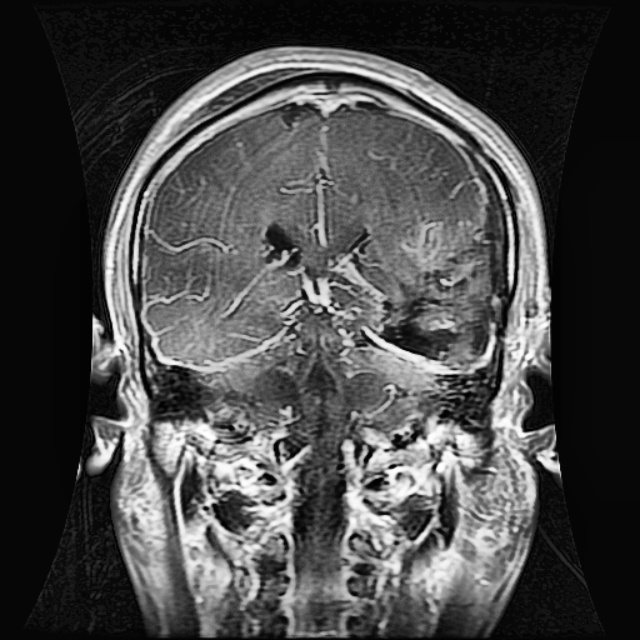Meningioma: (374, 237, 499, 370)
